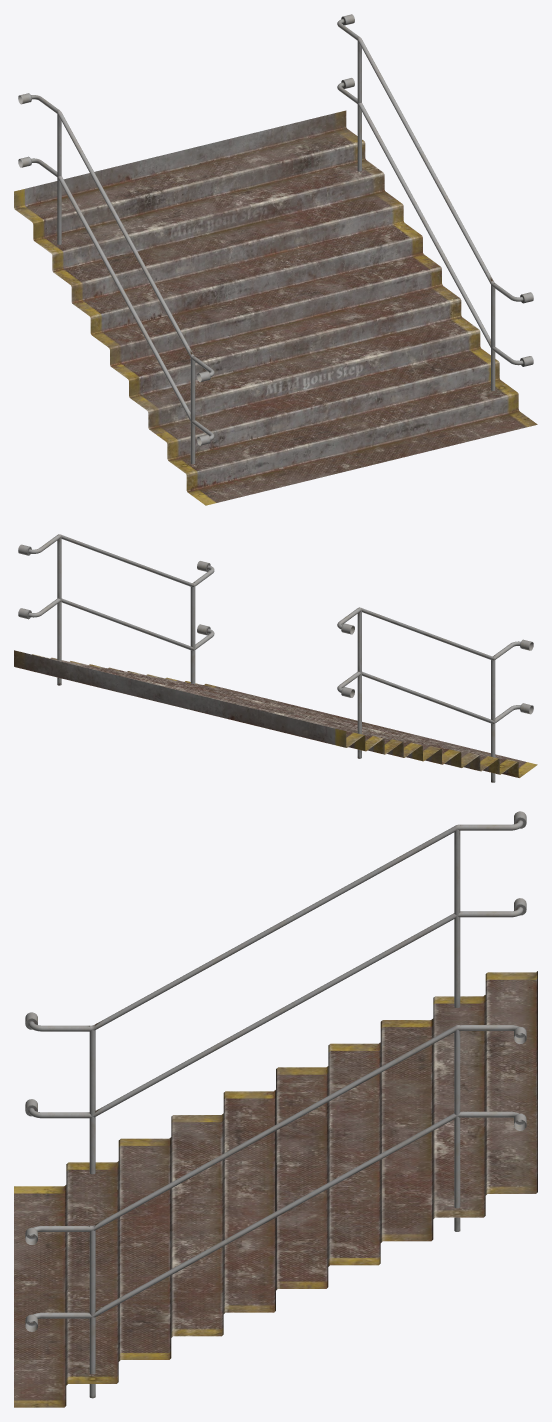
The model's file is SM_Stairs_200u.glb.
3 views of the same model, one above another, from view 1: azimuth 30°, elevation 25°; view 2: azimuth 150°, elevation 25°; view 3: azimuth 270°, elevation 25° (orthographic). The views are drawn at different scales.
Visible parts, largest first — view 1: SM_Stairs_200u; view 2: SM_Stairs_200u; view 3: SM_Stairs_200u.
Part boxes in pixels (x1=…): SM_Stairs_200u: x1=14, y1=14, x2=537, y2=505; SM_Stairs_200u: x1=14, y1=534, x2=537, y2=782; SM_Stairs_200u: x1=14, y1=811, x2=537, y2=1407.
Bounding box in the file's own units: 2.6 × 2.05 × 2.6.
2 materials, 2 textured.
